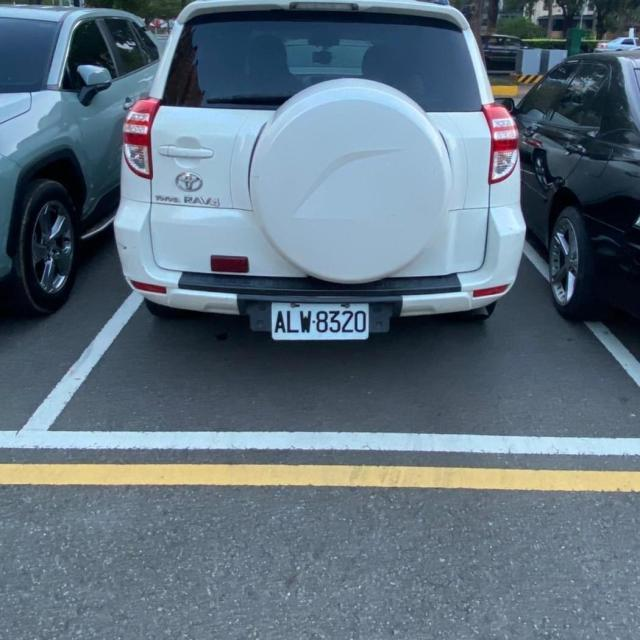W: (272, 300, 369, 340)
